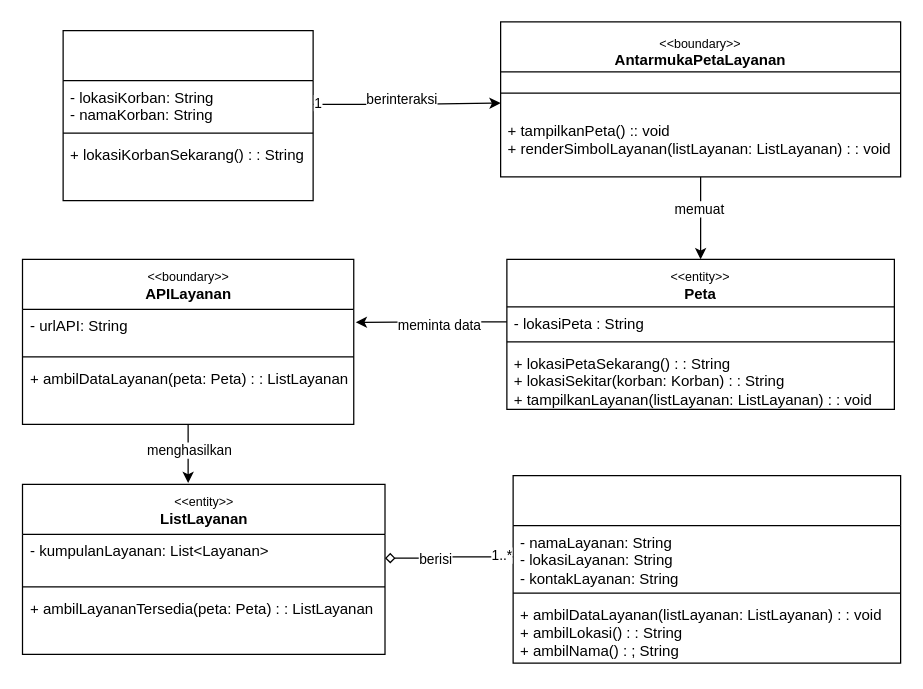
Some shapes in this 923 by 689 pixel diagram are drawn without their labels. Here are the shapes that lost their labels. From the top down, the box of each, then its label:
(62, 29, 313, 201): <<entity>> Korban
(512, 474, 901, 663): <<entity>> Layanan
